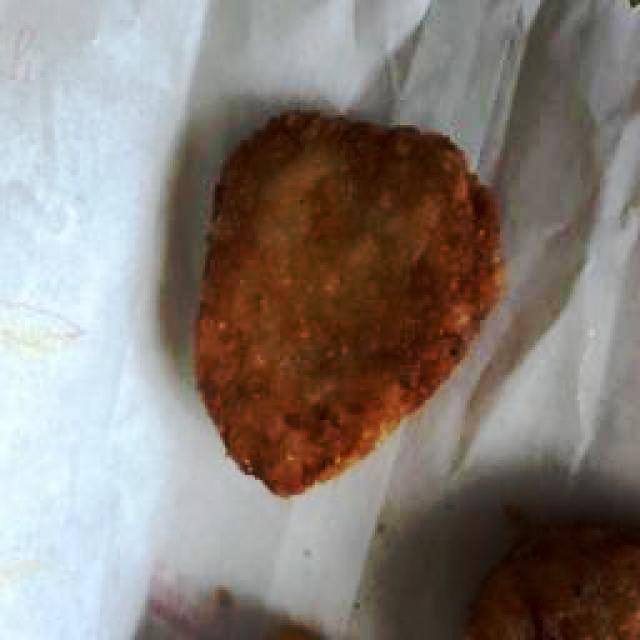Hashbrown: (193, 113, 499, 495)
